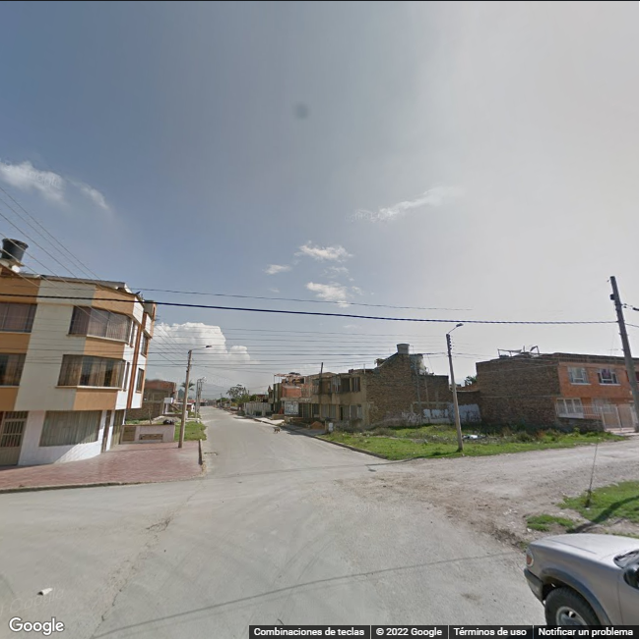D00: (92, 536, 153, 637)
D40: (146, 511, 167, 536)
